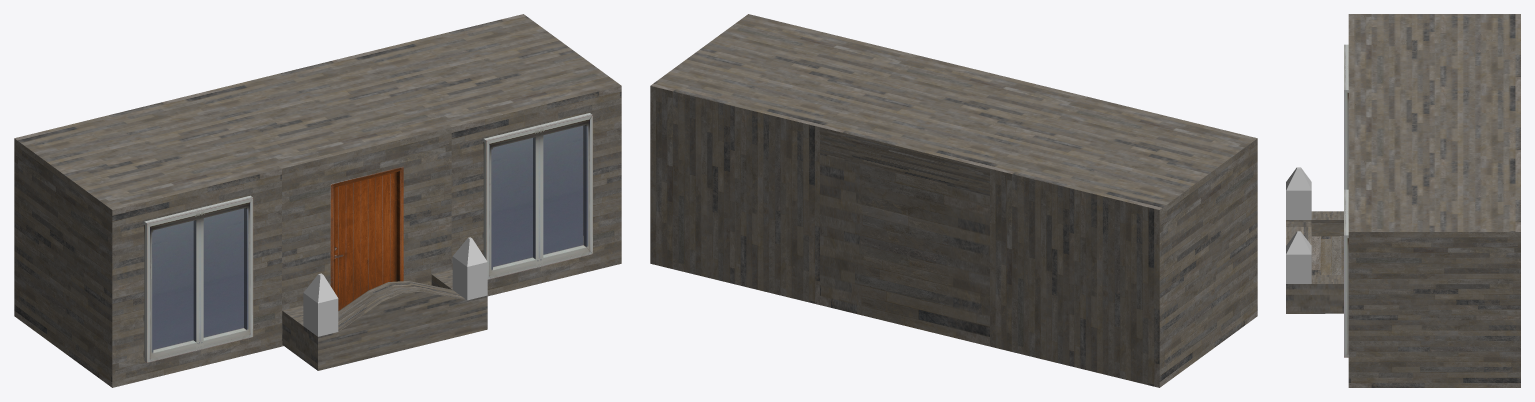
The model's file is 3x1_door.fbx.
3 views of the same model, side by side, from view 1: azimuth 30°, elevation 25°; view 2: azimuth 150°, elevation 25°; view 3: azimuth 270°, elevation 25° (orthographic). The views are drawn at different scales.
Parts seen in each view (by area): view 1: Cube.021; view 2: Cube.021; view 3: Cube.021.
Part boxes in pixels (box(x1,y1,x2,y2)): Cube.021: box(14, 14, 621, 387); Cube.021: box(650, 14, 1257, 387); Cube.021: box(1286, 14, 1520, 387).
Bounding box in the file's own units: 273 × 200 × 599.
